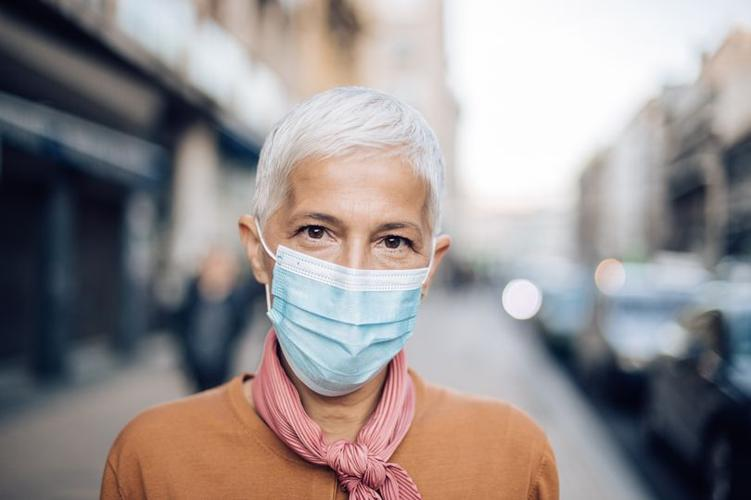mask: (277, 118, 436, 395)
